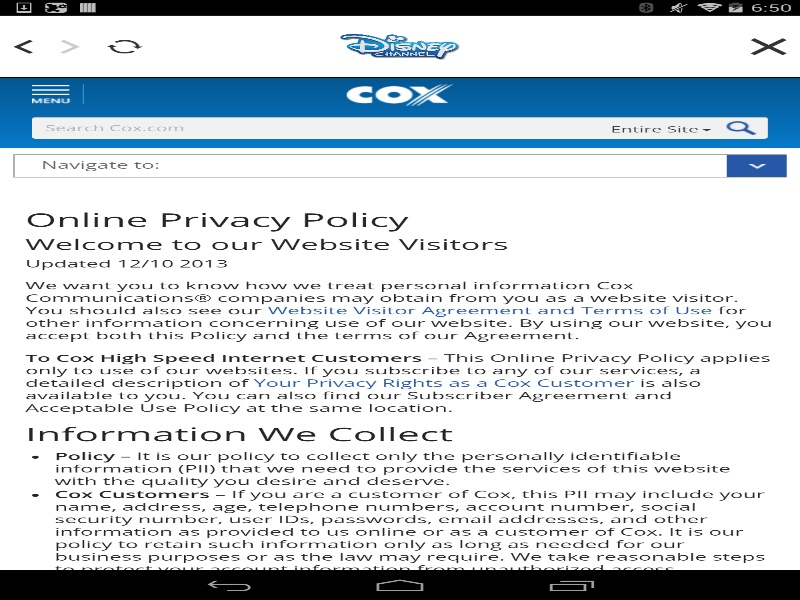Button: (13, 40, 33, 53), (60, 40, 80, 53)
Input: (445, 118, 798, 138)
